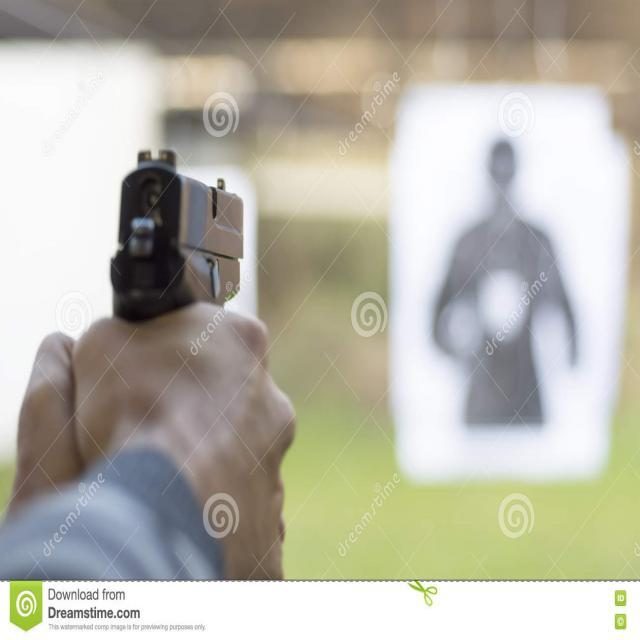guns: (108, 146, 244, 324)
